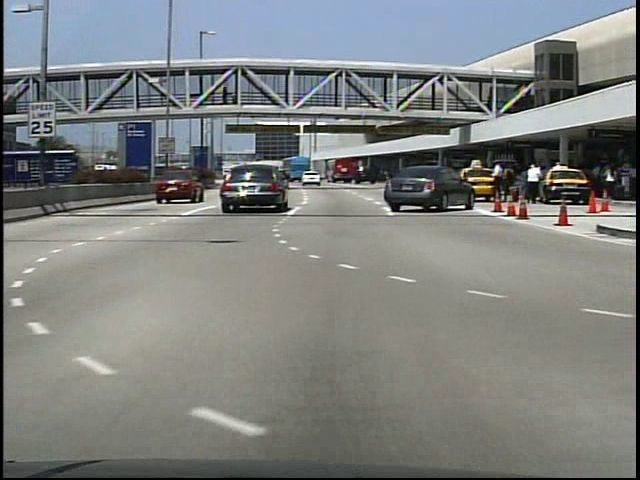person: (522, 158, 545, 204), (596, 162, 616, 201), (489, 162, 507, 204), (527, 161, 543, 203), (220, 87, 230, 109)
